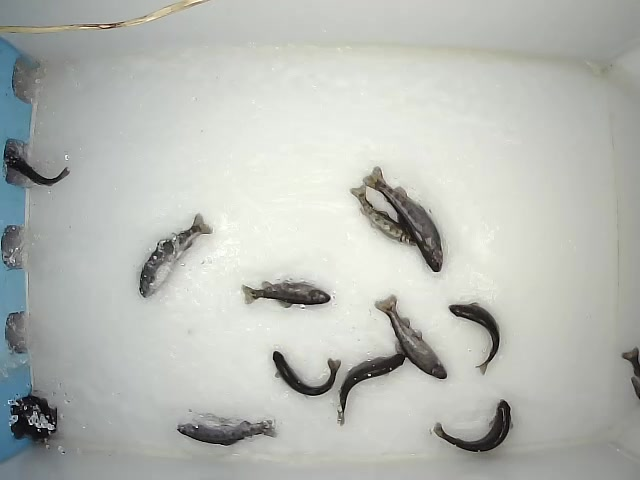fish: (362, 164, 444, 273), (138, 211, 215, 300), (374, 293, 448, 381), (335, 353, 407, 427), (428, 398, 515, 454), (349, 183, 418, 248), (448, 301, 502, 377), (271, 349, 342, 399), (176, 415, 278, 448), (240, 278, 332, 309)
